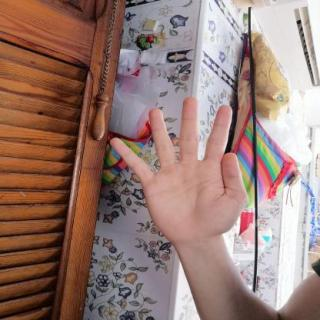SHEEN: (100, 90, 254, 249)
